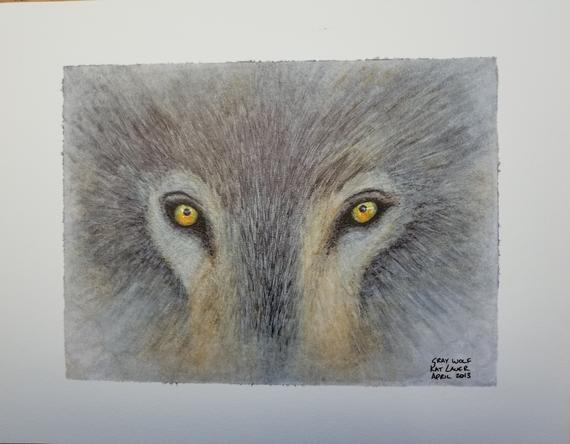Lobo: (122, 117, 463, 334)
